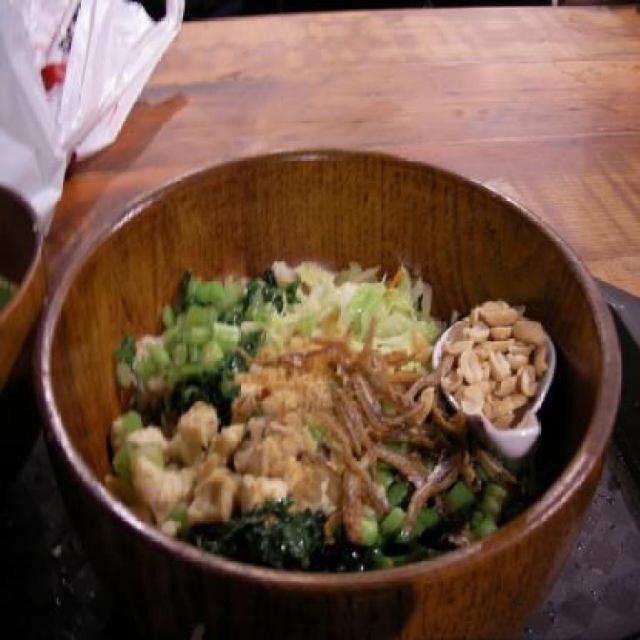plastic bag: (0, 0, 182, 237)
